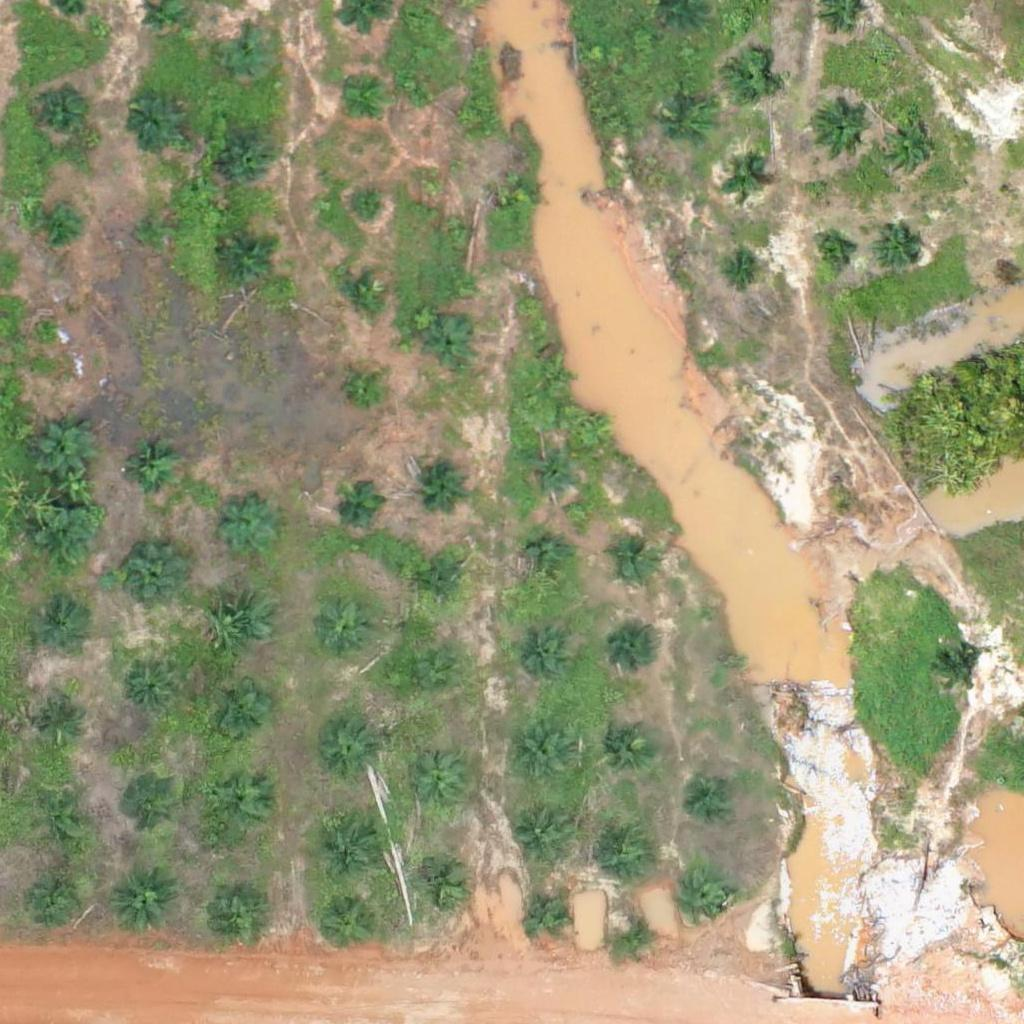Kelapa_Sawit: (396, 650, 459, 713), (511, 626, 574, 689), (121, 90, 184, 153), (119, 443, 182, 506), (123, 543, 186, 606), (218, 26, 281, 89), (110, 870, 173, 933), (509, 723, 572, 786), (206, 768, 269, 831), (204, 875, 267, 938), (120, 775, 183, 838), (316, 892, 379, 955), (596, 819, 659, 882), (510, 804, 573, 867), (33, 419, 96, 482), (876, 115, 939, 178), (207, 682, 269, 745), (318, 597, 380, 660), (217, 495, 279, 558), (320, 814, 382, 877), (32, 788, 94, 851), (317, 718, 379, 781), (406, 756, 468, 819), (411, 854, 473, 917), (596, 714, 658, 777), (35, 508, 97, 571), (213, 595, 275, 658), (810, 97, 872, 160), (27, 870, 89, 932), (225, 133, 275, 184), (224, 236, 274, 287), (523, 889, 573, 940), (609, 910, 659, 961), (335, 268, 385, 319), (37, 87, 87, 138), (32, 608, 82, 658), (40, 701, 90, 751), (123, 664, 173, 714), (612, 625, 662, 675), (419, 456, 469, 506), (337, 481, 387, 531), (526, 451, 576, 501), (425, 320, 475, 370), (522, 536, 572, 586), (608, 535, 658, 585), (680, 876, 730, 926), (690, 771, 740, 821), (933, 645, 983, 695), (416, 560, 466, 610), (725, 54, 775, 104), (874, 223, 924, 273), (337, 78, 387, 128), (663, 104, 713, 154), (534, 358, 572, 396), (346, 369, 384, 407), (724, 159, 762, 197), (725, 250, 763, 288), (812, 233, 850, 271), (438, 210, 476, 248), (448, 97, 486, 135), (40, 206, 78, 244), (502, 172, 539, 210), (136, 212, 173, 250), (348, 191, 385, 228)
